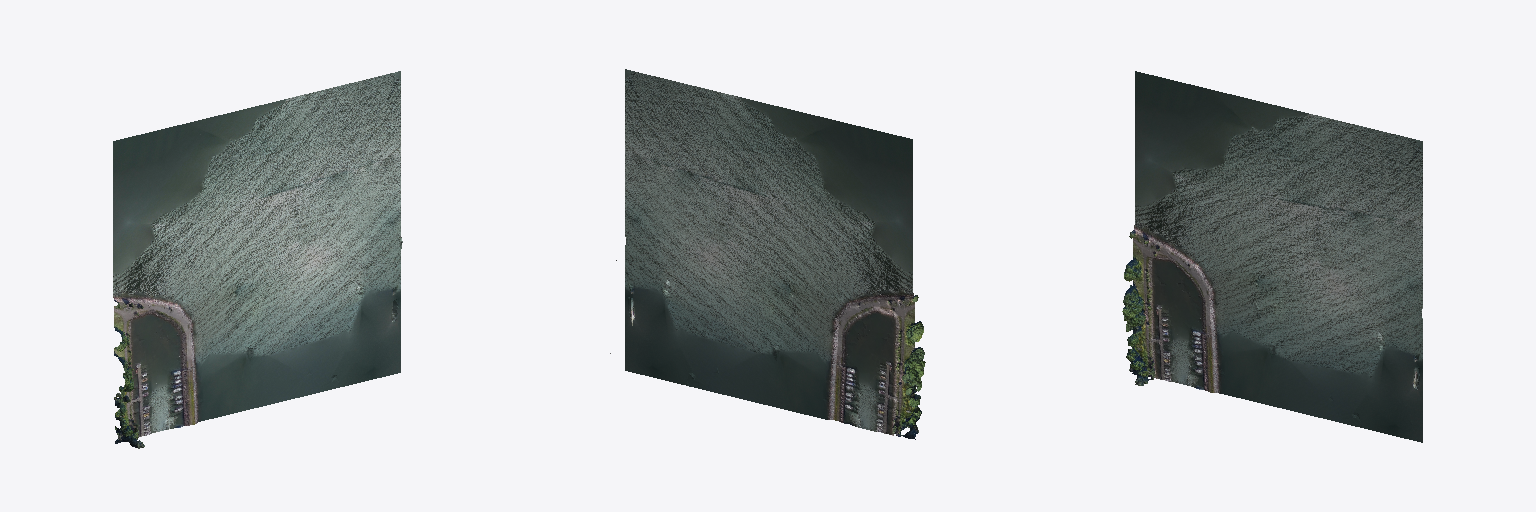
The picture shows the model from 3 angles: view 1: azimuth 30°, elevation 25°; view 2: azimuth 150°, elevation 25°; view 3: azimuth 330°, elevation 25°; orthographic projection.
Bounding box in the file's own units: 252 × 252 × 43.18.
Materials: 2 (1 with a texture image).